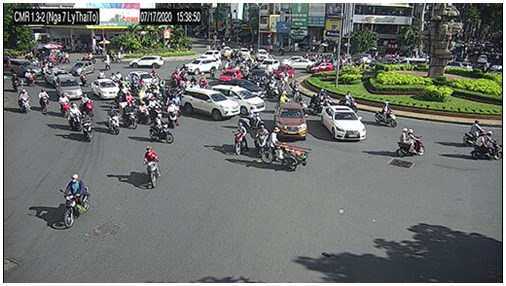xe_hoi: (182, 88, 240, 120), (320, 105, 365, 142), (213, 85, 265, 114), (273, 103, 307, 139), (54, 74, 81, 101), (181, 58, 220, 75), (90, 79, 120, 100), (45, 69, 73, 88), (129, 56, 165, 70), (218, 69, 242, 86), (71, 61, 95, 77), (281, 59, 313, 69), (307, 62, 335, 73), (259, 59, 280, 70)
xe_khach: (395, 58, 430, 68)
xe_may: (62, 172, 90, 228), (394, 127, 427, 158), (472, 130, 503, 161), (148, 114, 175, 145), (464, 121, 491, 145), (374, 101, 397, 129), (145, 147, 159, 189), (310, 93, 336, 115), (148, 97, 167, 126), (233, 121, 248, 157), (120, 102, 137, 130), (340, 91, 359, 114), (68, 102, 82, 132), (105, 106, 119, 136), (314, 88, 335, 107), (79, 93, 94, 118), (81, 111, 92, 144), (138, 101, 153, 125), (168, 101, 181, 128), (277, 89, 292, 112), (19, 87, 32, 113), (124, 92, 139, 114), (265, 80, 282, 98), (39, 88, 50, 112), (9, 72, 22, 92), (59, 93, 69, 117), (291, 78, 302, 99), (25, 69, 36, 87), (79, 70, 90, 88)
